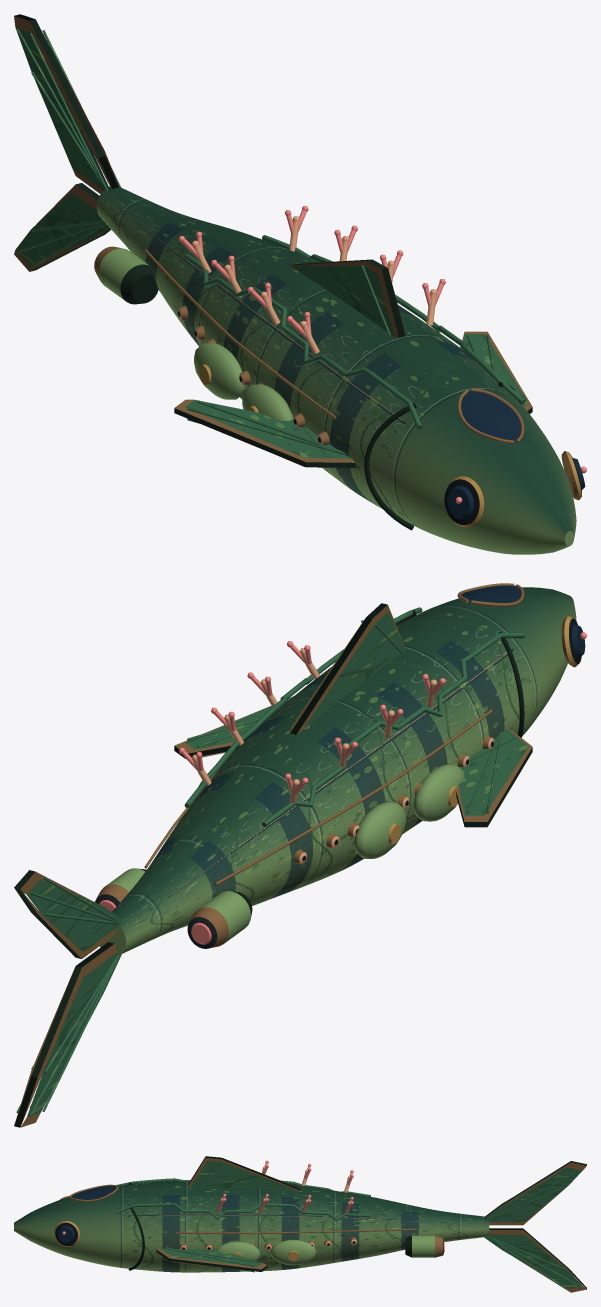
The picture shows the model from 3 angles, top to bottom: view 1: azimuth 30°, elevation 25°; view 2: azimuth 150°, elevation 25°; view 3: azimuth 270°, elevation 25°; orthographic projection. The views are drawn at different scales.
Parts seen in each view (by area): view 1: pilotfish_hull; view 2: pilotfish_hull; view 3: pilotfish_hull.
Part boxes in pixels (x1,y1,x2,y2): pilotfish_hull: (14,14,586,554); pilotfish_hull: (14,583,586,1127); pilotfish_hull: (14,1156,586,1292).
Size of the model in its own units: 5.24 by 4.16 by 16.
Materials: 1 (1 with a texture image).
